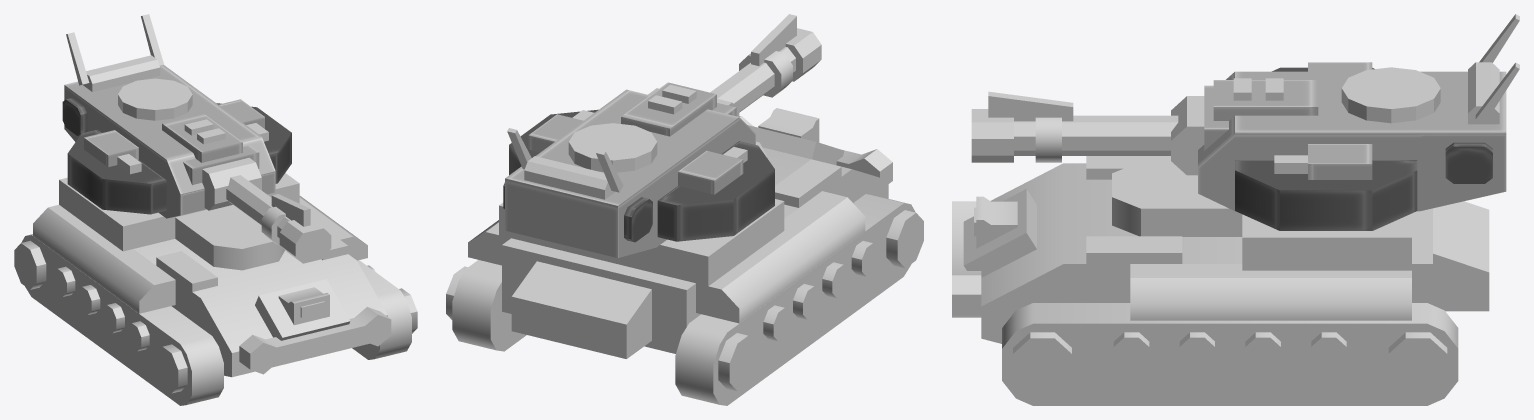
The model's file is unit_Tank_Heavy_A_yup.fbx.
3 views of the same model, side by side, from view 1: azimuth 30°, elevation 25°; view 2: azimuth 150°, elevation 25°; view 3: azimuth 270°, elevation 25° (orthographic). The views are drawn at different scales.
Parts seen in each view (by area): view 1: unit_Tank_Heavy_A_Body_yup, unit_Tank_Heavy_A_Turret_yup, unit_Tank_Heavy_A_Gun_yup; view 2: unit_Tank_Heavy_A_Body_yup, unit_Tank_Heavy_A_Turret_yup, unit_Tank_Heavy_A_Gun_yup; view 3: unit_Tank_Heavy_A_Body_yup, unit_Tank_Heavy_A_Turret_yup, unit_Tank_Heavy_A_Gun_yup.
Part boxes in pixels (<box>): unit_Tank_Heavy_A_Body_yup: <box>14,173,417,405</box>; unit_Tank_Heavy_A_Turret_yup: <box>62,14,291,218</box>; unit_Tank_Heavy_A_Gun_yup: <box>202,157,331,263</box>; unit_Tank_Heavy_A_Body_yup: <box>446,108,923,405</box>; unit_Tank_Heavy_A_Turret_yup: <box>503,82,774,257</box>; unit_Tank_Heavy_A_Gun_yup: <box>710,14,821,116</box>; unit_Tank_Heavy_A_Body_yup: <box>952,156,1489,405</box>; unit_Tank_Heavy_A_Turret_yup: <box>1198,14,1519,230</box>; unit_Tank_Heavy_A_Gun_yup: <box>971,91,1204,175</box>.
Bounding box in the file's own units: 439 × 389 × 680.
